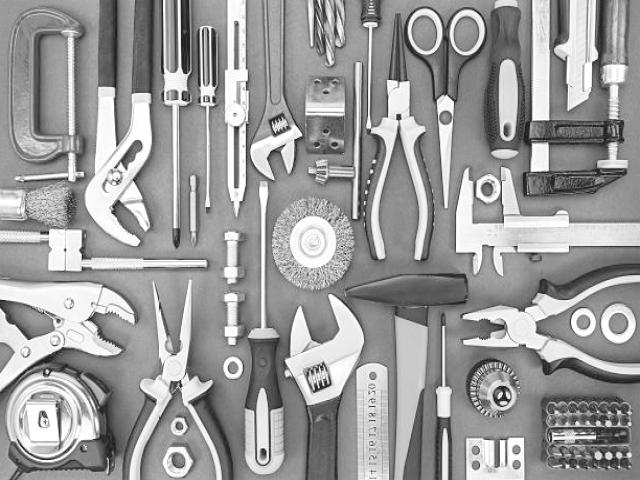Adjustable spanner: (285, 294, 364, 479), (250, 0, 302, 179)
Calipers: (456, 167, 640, 274)
Gas wrench: (85, 0, 152, 246)
Hammer: (346, 274, 469, 480)
Needle-nose pliers: (124, 279, 233, 480), (365, 14, 434, 260)
Pliers: (462, 264, 640, 382)
Screwdriver: (244, 181, 285, 475), (162, 0, 191, 247), (485, 0, 525, 159), (198, 25, 218, 210), (436, 314, 452, 480), (361, 0, 381, 130)
Utility knife: (5, 363, 114, 473), (554, 0, 599, 110)
